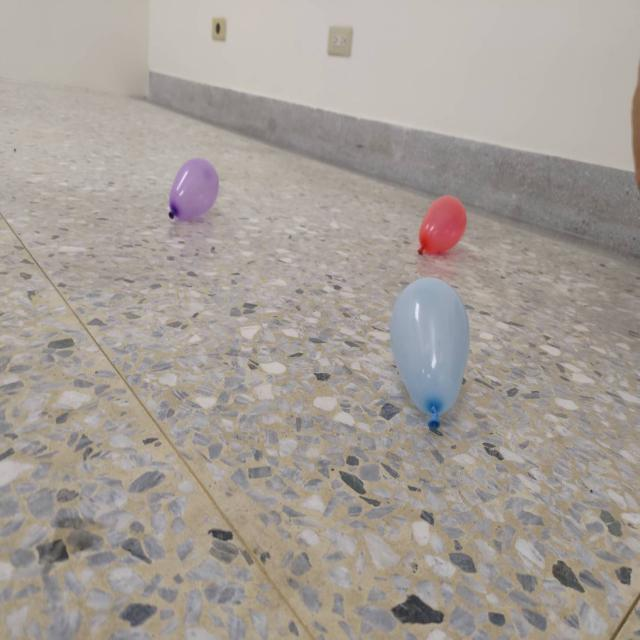other: (390, 276, 470, 434), (168, 157, 218, 221)
red: (416, 194, 468, 257)
